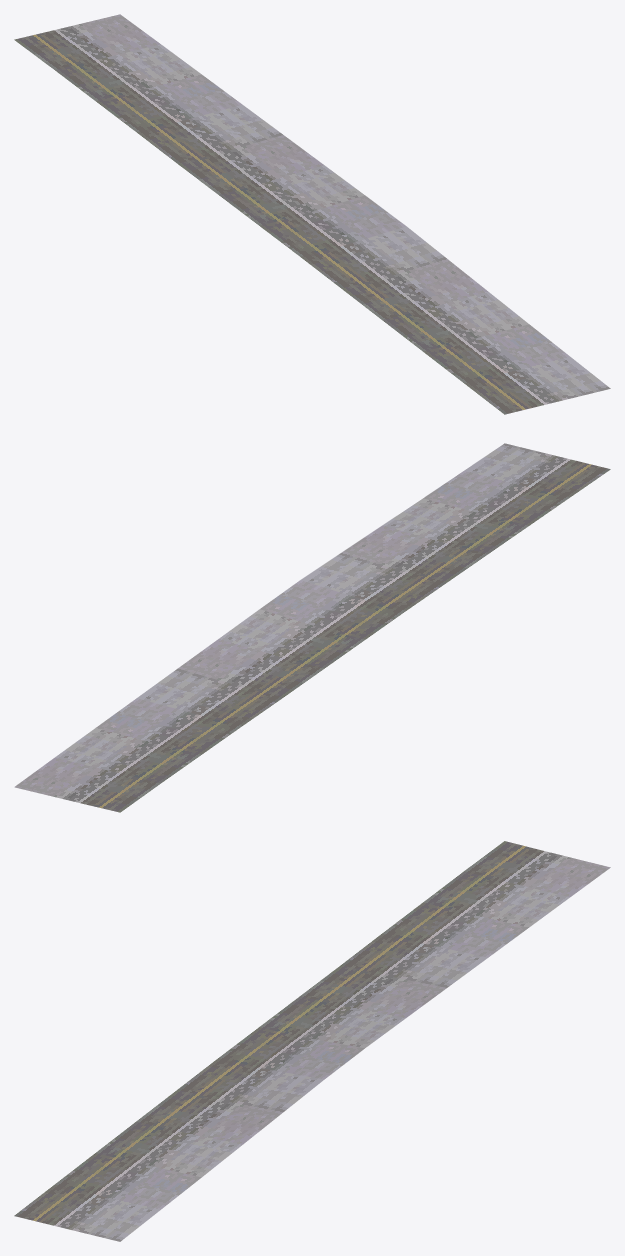
The model's file is lodaseroad037.obj.
3 views of the same model, one above another, from view 1: azimuth 30°, elevation 25°; view 2: azimuth 150°, elevation 25°; view 3: azimuth 330°, elevation 25° (orthographic).
Visible parts, largest first — view 1: lodasEroad037; view 2: lodasEroad037; view 3: lodasEroad037.
Part boxes in pixels (x1,y1,x2,y2): lodasEroad037: (14, 14, 610, 414); lodasEroad037: (14, 443, 610, 812); lodasEroad037: (14, 841, 610, 1241).
Bounding box in the file's own units: 30 × 4.26 × 240.
Materials: 1 (1 with a texture image).
